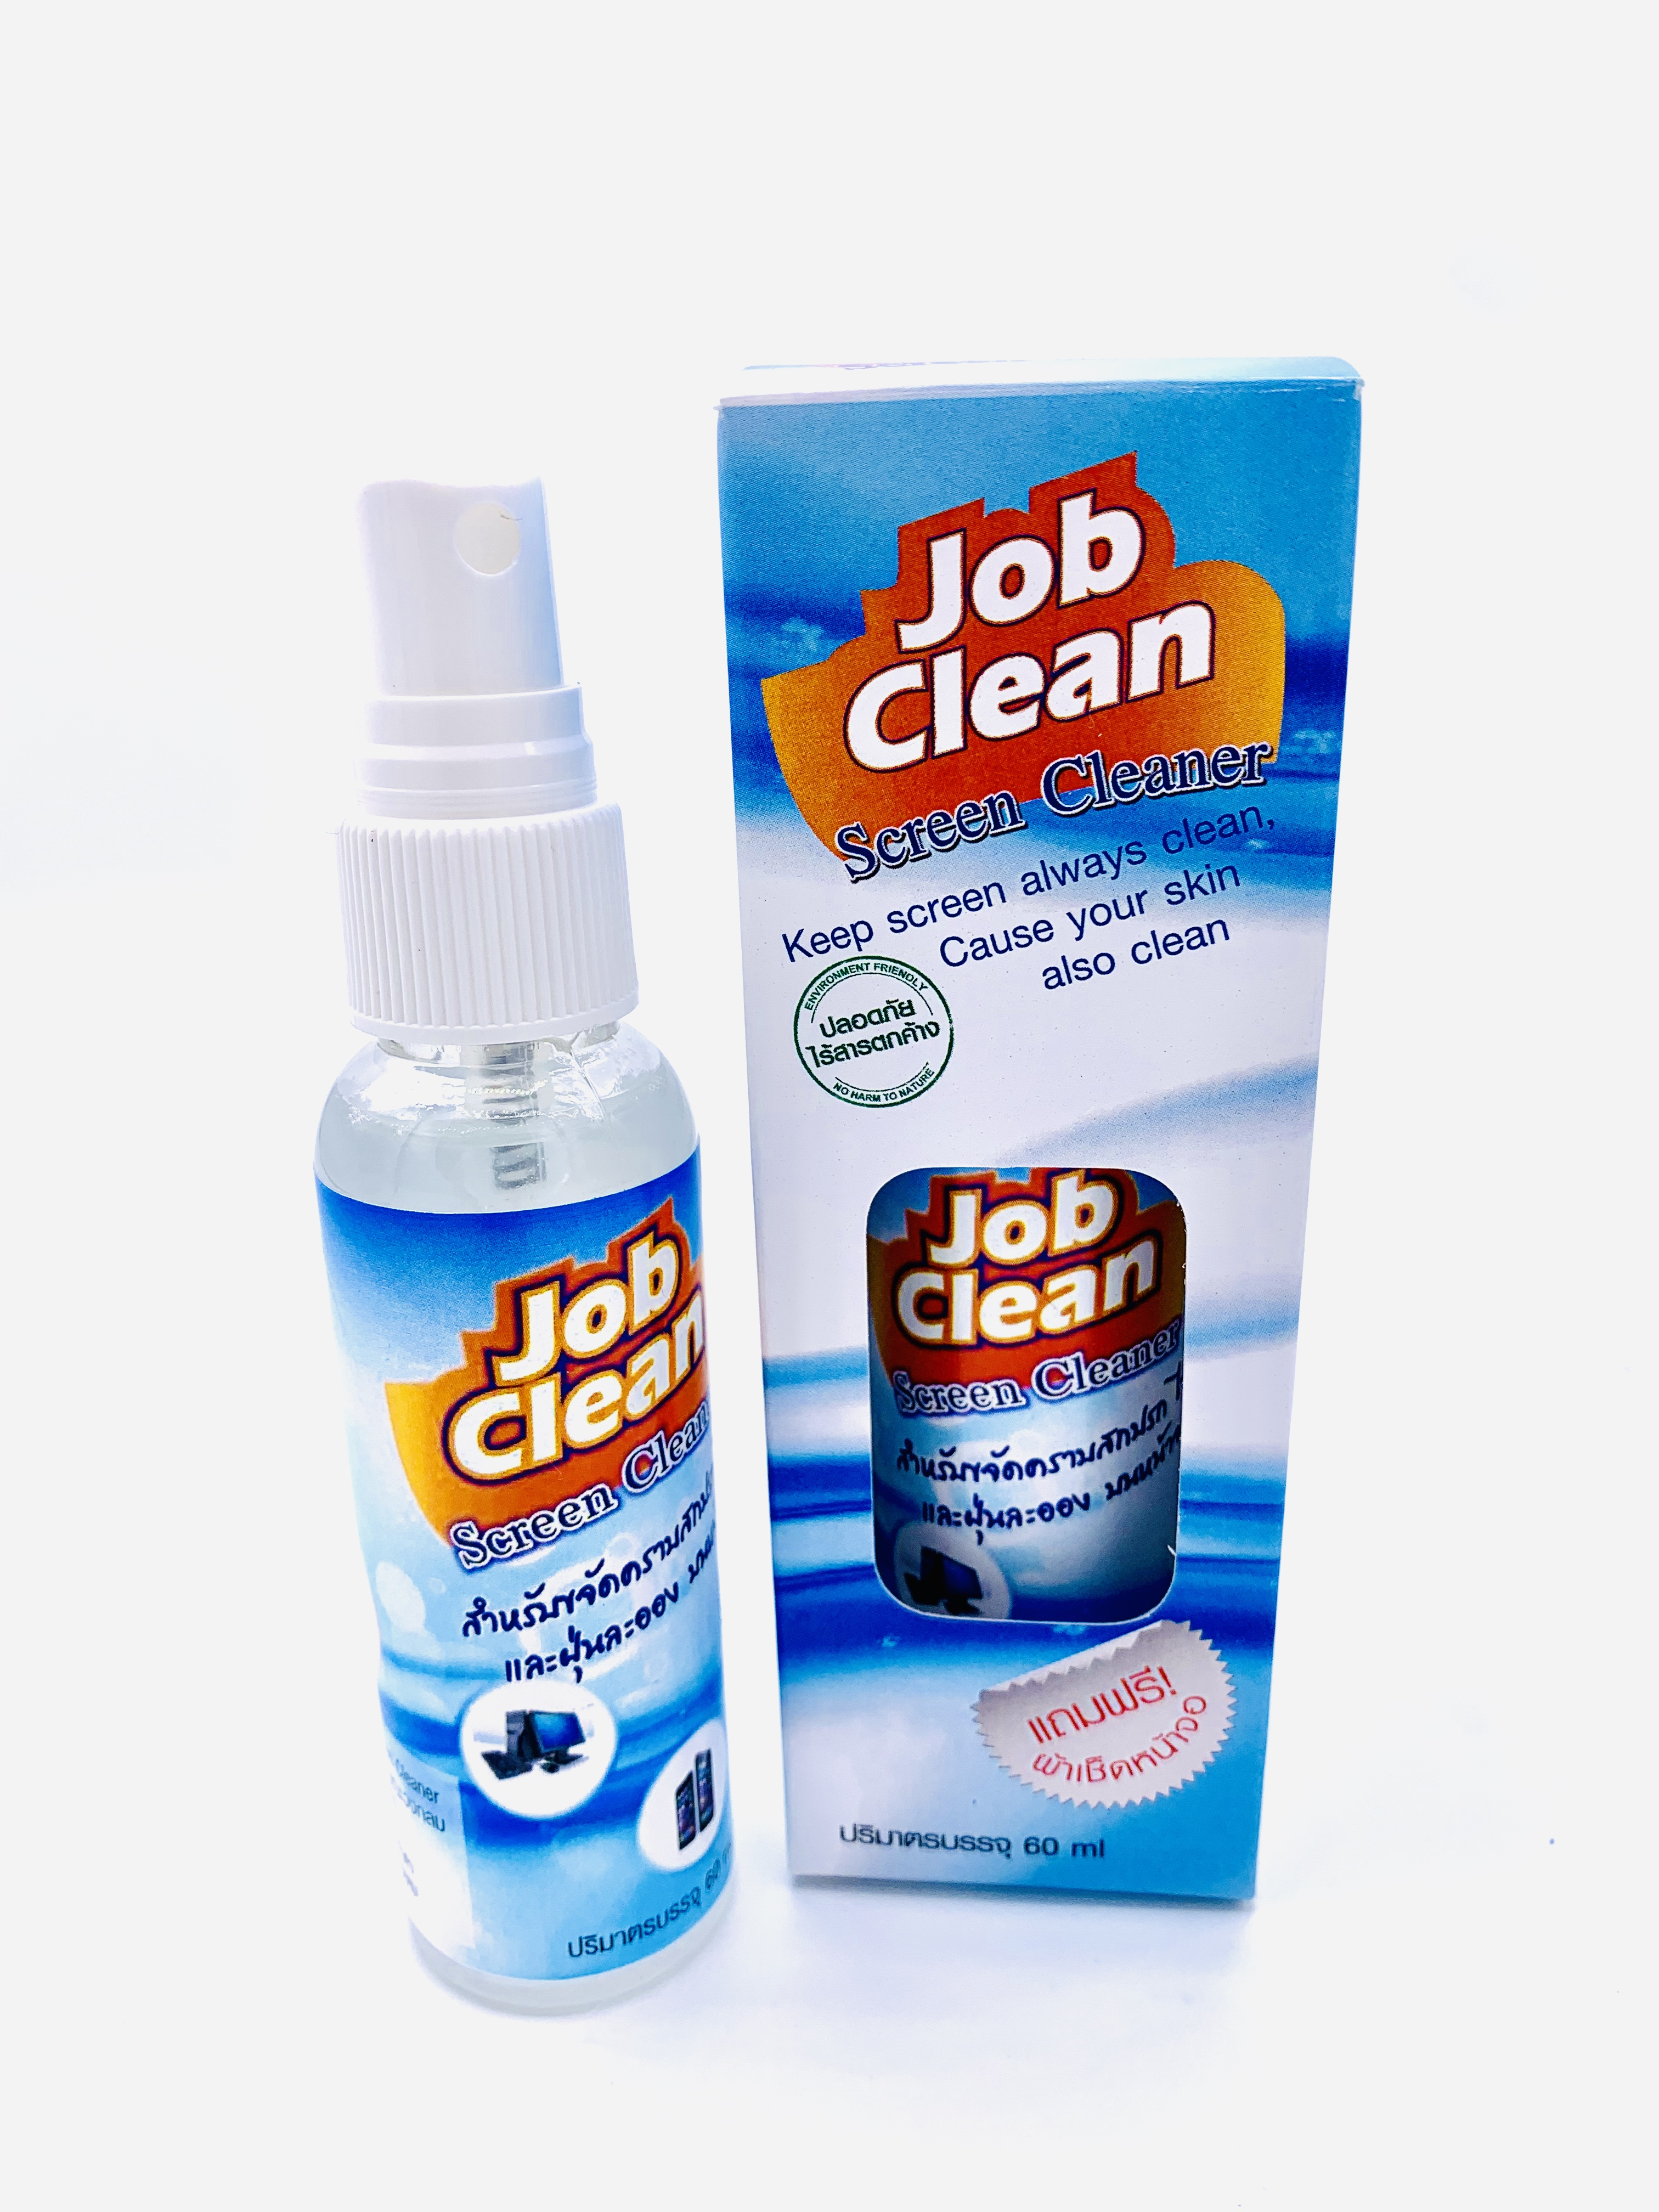Cleaning_solution: (291, 455, 749, 2038)
